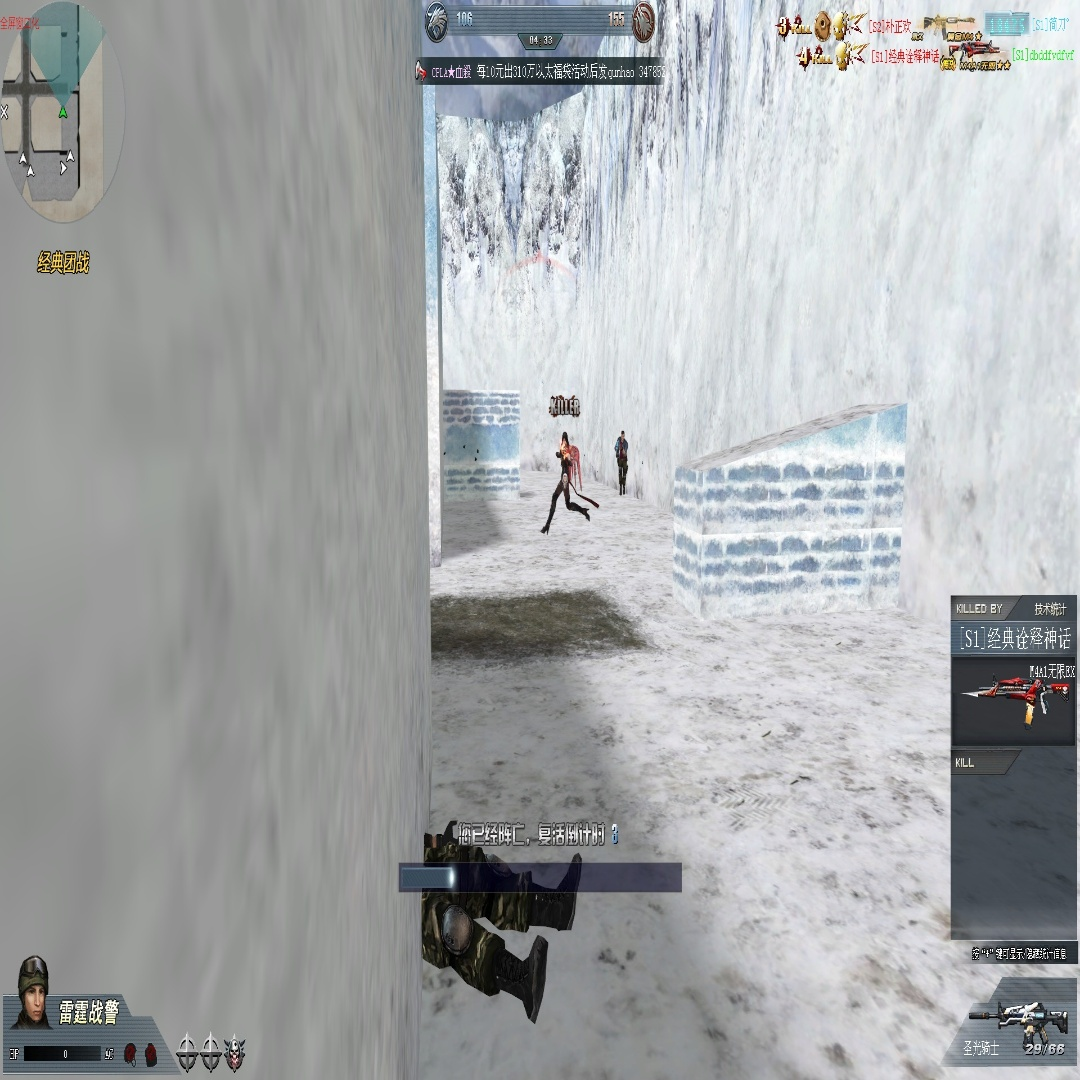t: (555, 432, 574, 534), (615, 430, 629, 495)
